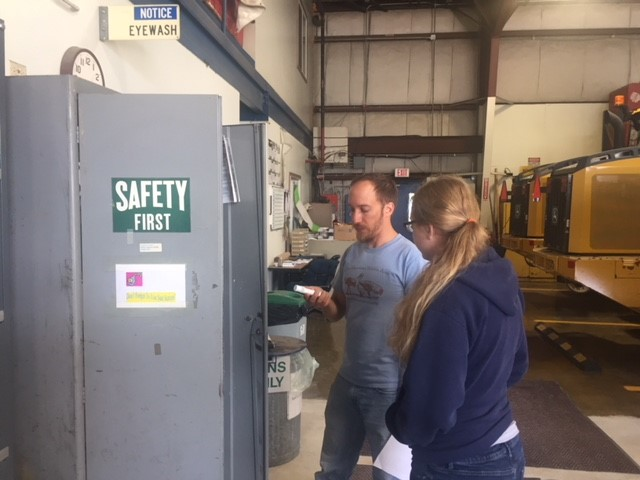noepi: (404, 176, 541, 476), (299, 167, 420, 467)
